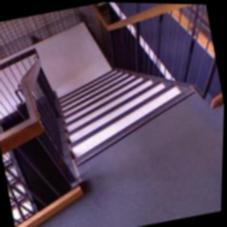Animal: (56, 81, 204, 171)
